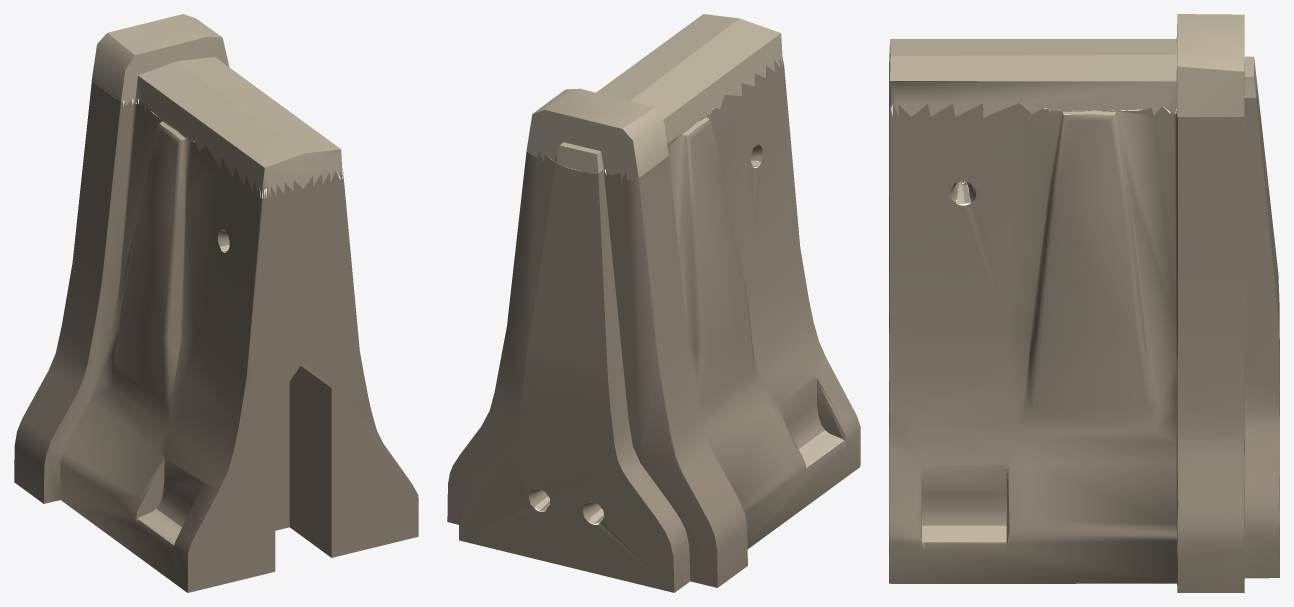
Rendered from stone-wall-s.glb.
3 views of the same model, side by side, from view 1: azimuth 30°, elevation 25°; view 2: azimuth 150°, elevation 25°; view 3: azimuth 270°, elevation 25° (orthographic). The views are drawn at different scales.
Visible parts, largest first — view 1: body; view 2: body; view 3: body.
Part boxes in pixels (x1,y1,x2,y2): body: (14, 14, 418, 592); body: (447, 14, 860, 592); body: (889, 14, 1279, 592).
Bounding box in the file's own units: 0.8506 × 1.31 × 0.9603.
